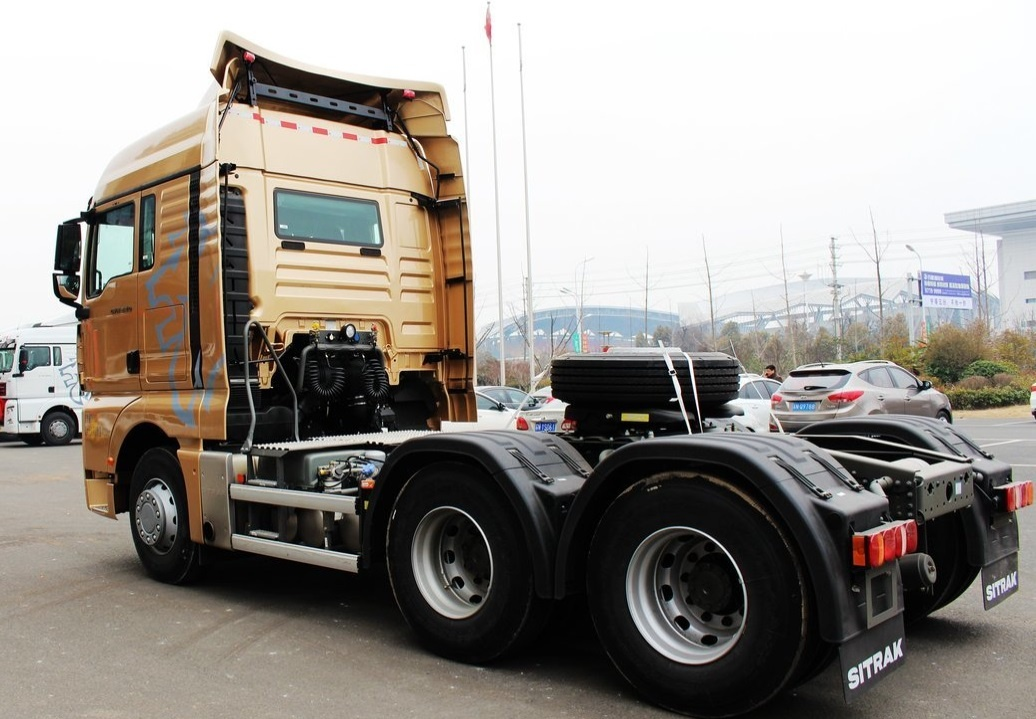heavy truck: (59, 57, 986, 683)
